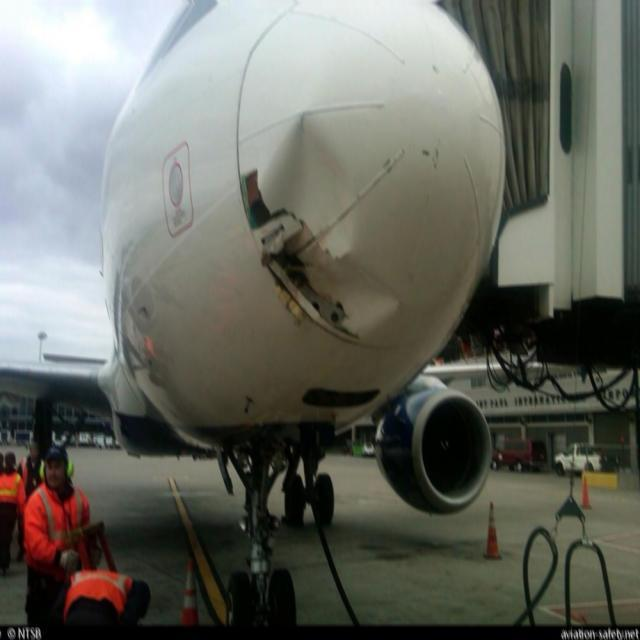dent: (267, 111, 355, 252), (321, 256, 401, 329)
